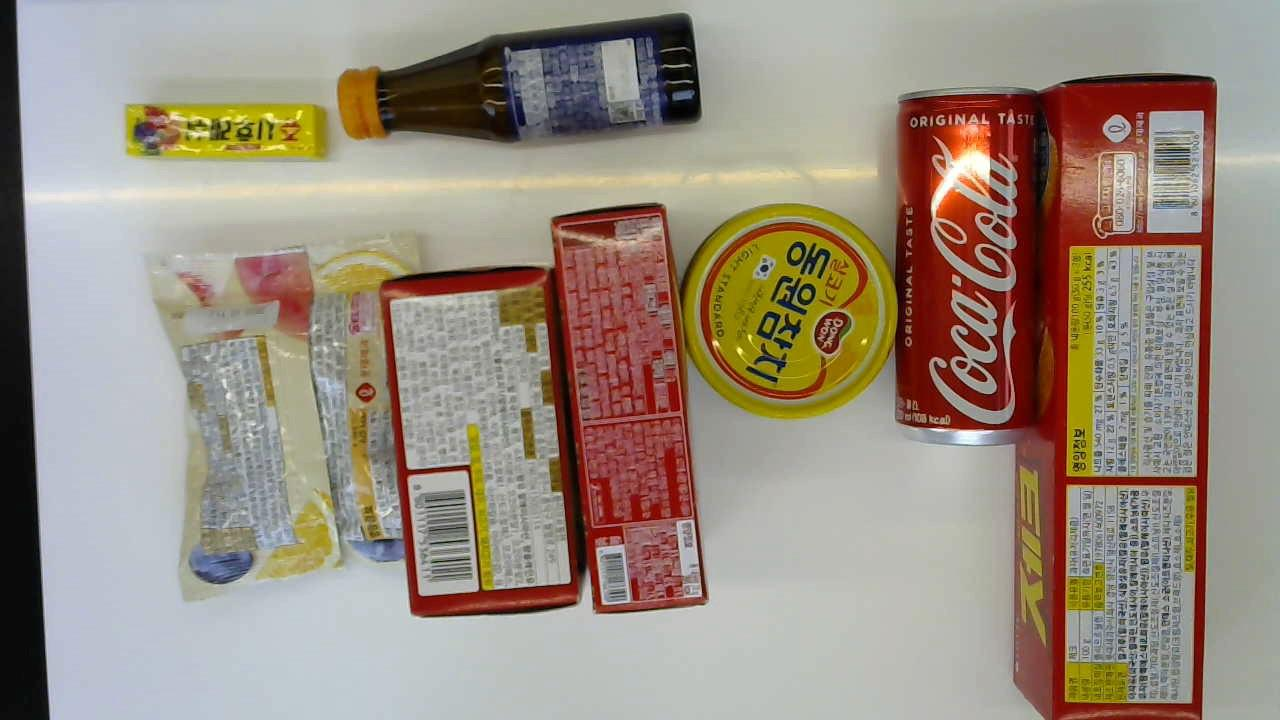chocopie: (380, 263, 579, 615)
coke: (893, 82, 1036, 441)
couque_white: (549, 201, 707, 613)
gumi_gumi: (143, 227, 418, 600)
juicyfresh: (124, 101, 328, 160)
tuna: (683, 203, 895, 416)
vita500: (338, 10, 710, 143)
zec: (1018, 70, 1216, 720)
